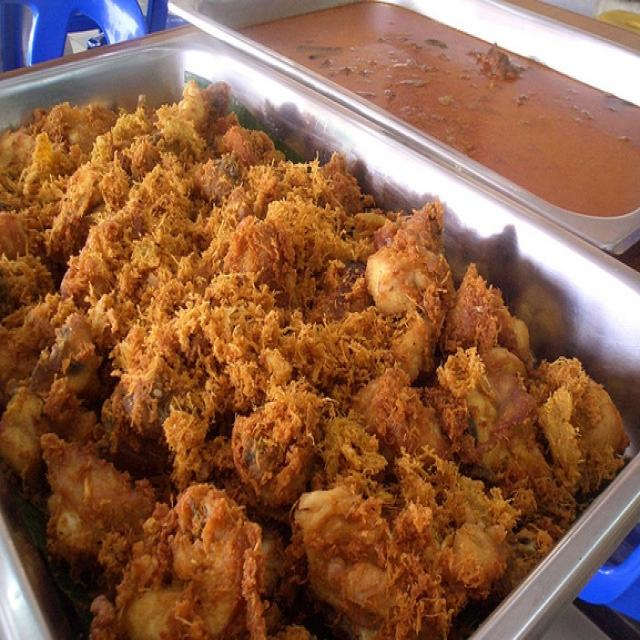鸡肉料理 含炸鸡: (13, 41, 608, 618)
